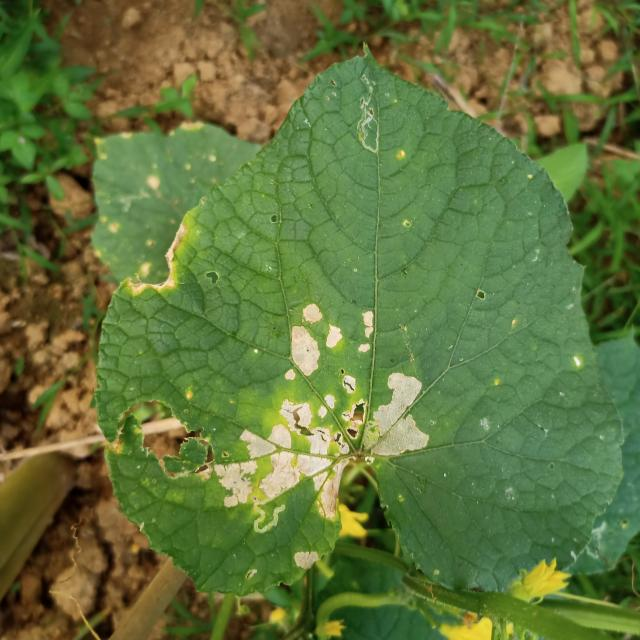disease_cucumber: (210, 301, 433, 517), (292, 546, 324, 575)
